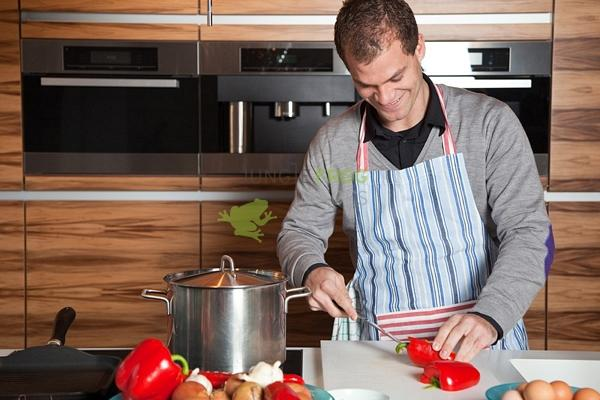person: (276, 1, 553, 364)
